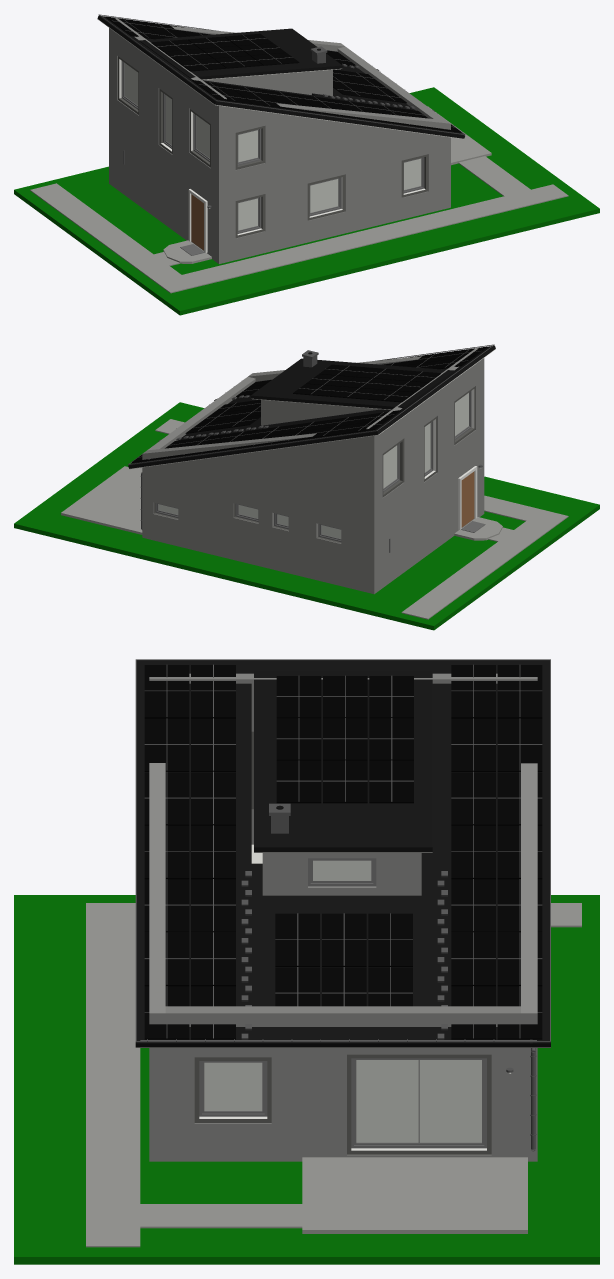
Rendered from openscad_multi-floor-house.glb.
3 views of the same model, one above another, from view 1: azimuth 30°, elevation 25°; view 2: azimuth 150°, elevation 25°; view 3: azimuth 270°, elevation 25° (orthographic). The views are drawn at different scales.
Parts seen in each view (by area): view 1: object; view 2: object; view 3: object.
Boxes of the visible parts, <box> form: object: <box>14,14,599,315</box>; object: <box>14,344,599,630</box>; object: <box>14,659,599,1264</box>.
Size of the model in its own units: 19 by 7.46 by 13.
